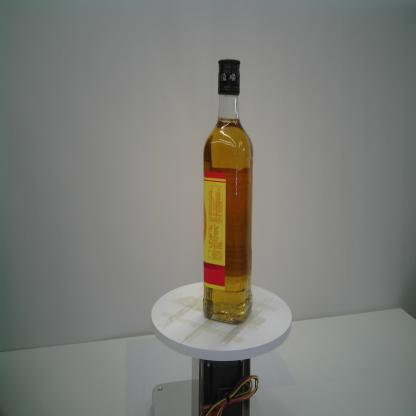Seasoner: (203, 57, 254, 326)
